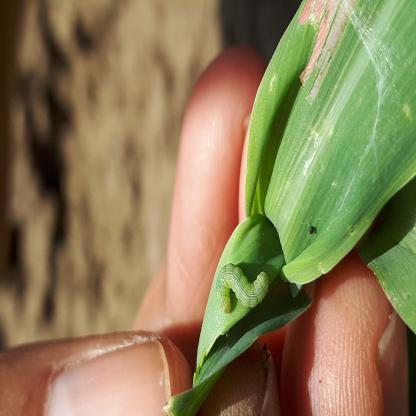armyworm: (55, 380, 87, 416)
